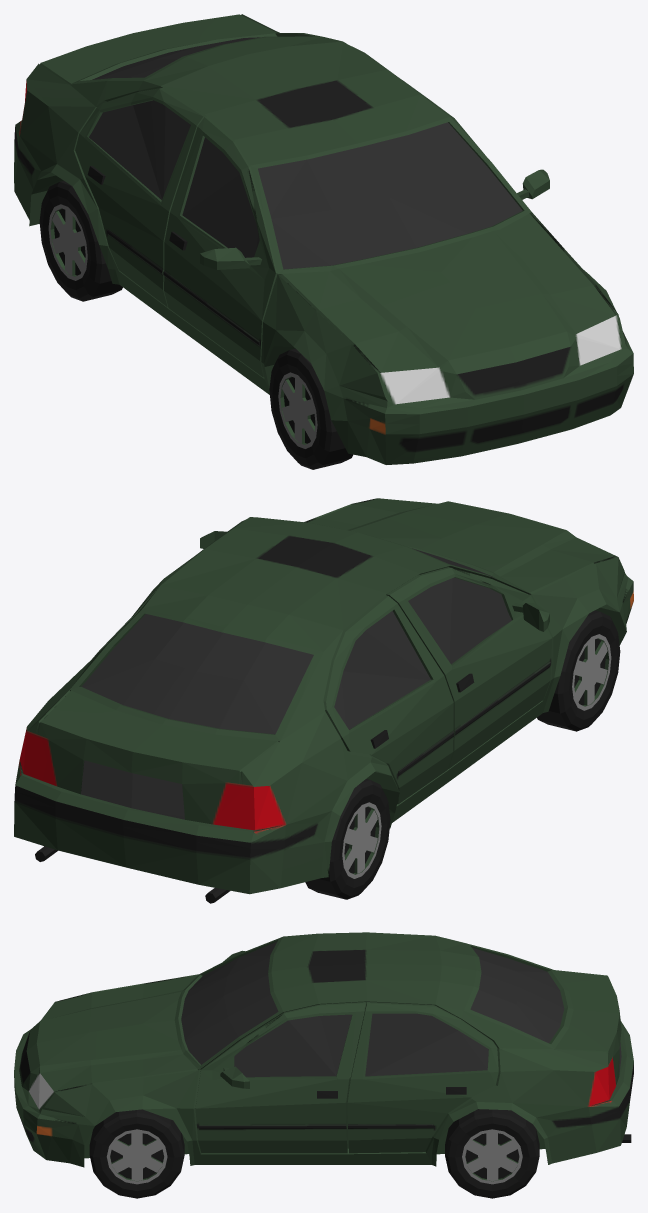
Rendered from Sedan4.fbx.
3 views of the same model, one above another, from view 1: azimuth 30°, elevation 25°; view 2: azimuth 150°, elevation 25°; view 3: azimuth 270°, elevation 25° (orthographic). The views are drawn at different scales.
Parts seen in each view (by area): view 1: Sedan4Combined; view 2: Sedan4Combined; view 3: Sedan4Combined.
Part boxes in pixels (bbox=[...]): Sedan4Combined: bbox=[14, 14, 633, 469]; Sedan4Combined: bbox=[14, 498, 633, 903]; Sedan4Combined: bbox=[14, 932, 633, 1198].
Bounding box in the file's own units: 312 × 203 × 632.
